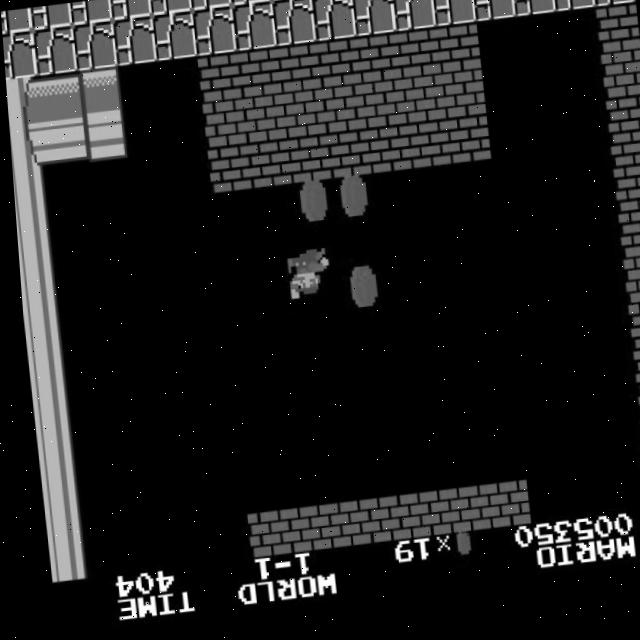1- brick_block: (477, 486, 523, 536), (438, 75, 484, 125), (434, 30, 480, 80), (437, 490, 483, 540), (398, 80, 444, 130), (394, 34, 440, 84), (397, 494, 443, 544), (358, 84, 404, 134), (354, 38, 400, 88), (357, 498, 403, 548), (314, 43, 360, 93), (317, 502, 363, 552), (277, 507, 323, 557), (237, 511, 283, 561), (199, 101, 245, 151), (283, 139, 329, 188), (243, 143, 289, 192), (594, 14, 639, 64), (319, 88, 364, 138), (279, 92, 324, 142), (275, 47, 320, 97), (239, 96, 284, 146), (235, 51, 280, 101), (195, 55, 240, 105), (443, 122, 488, 171), (403, 126, 448, 175), (363, 130, 408, 179), (323, 135, 368, 184), (204, 147, 249, 196), (599, 60, 640, 109), (603, 106, 640, 154), (607, 150, 640, 200), (611, 196, 640, 246), (616, 242, 640, 291), (619, 287, 640, 337), (624, 333, 640, 383), (628, 379, 640, 428), (632, 425, 640, 474), (637, 470, 640, 520)
11- little_mario: (282, 253, 330, 306)
14- pipe: (35, 72, 81, 122), (38, 533, 84, 583), (34, 488, 80, 537), (30, 442, 76, 491), (40, 117, 85, 167), (26, 396, 71, 446), (22, 350, 67, 400), (18, 305, 63, 354), (15, 259, 58, 309), (13, 213, 54, 263), (10, 168, 50, 217), (7, 122, 46, 171), (5, 77, 41, 126)
15- pipe_head: (79, 113, 125, 163), (75, 68, 121, 118)
17- undestructible_block: (270, 1, 316, 51), (230, 5, 276, 55), (190, 9, 236, 59), (31, 26, 77, 76), (151, 14, 196, 64), (111, 18, 156, 68), (71, 22, 116, 72), (310, 0, 356, 47), (350, 0, 396, 43), (390, 0, 436, 38), (2, 31, 37, 80), (430, 0, 476, 35), (470, 0, 516, 30), (510, 0, 556, 26), (69, 0, 112, 27), (29, 4, 72, 31), (550, 0, 595, 22), (109, 0, 152, 22), (590, 0, 635, 18), (1, 9, 33, 34), (149, 0, 192, 18), (189, 0, 232, 14), (229, 0, 272, 10), (268, 0, 311, 6), (308, 0, 351, 1)
2- coin: (327, 179, 373, 229), (287, 184, 333, 234), (336, 271, 381, 321)
